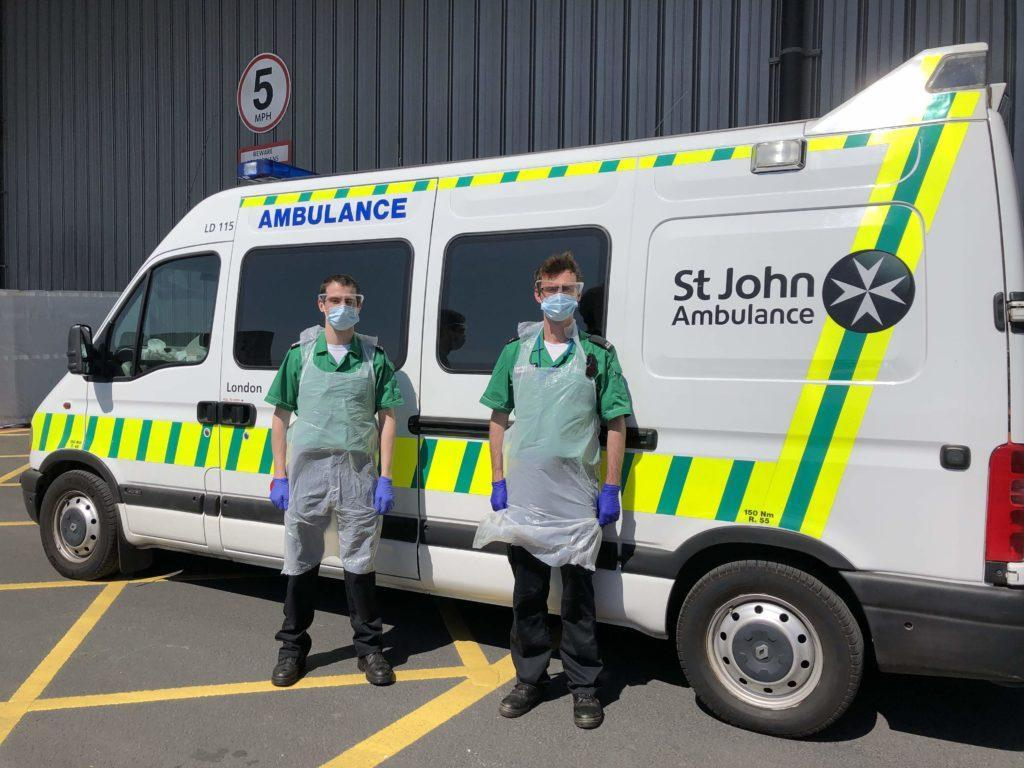Ambulance: (224, 186, 425, 238)
